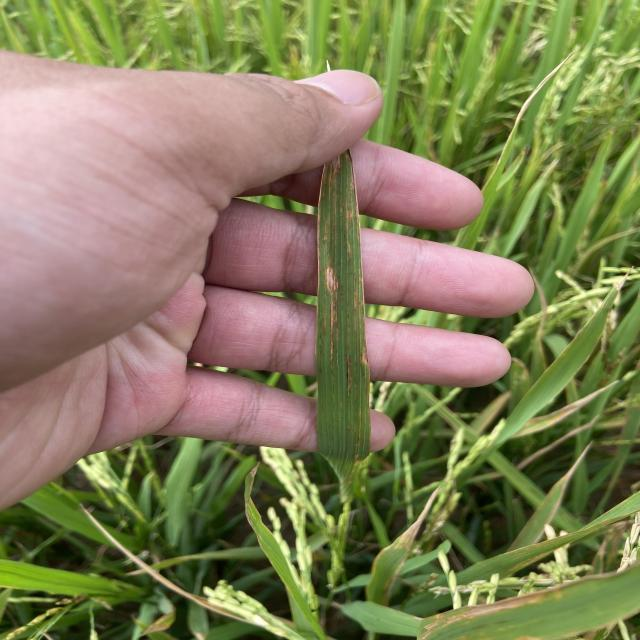Dom soc vi khuan: (323, 267, 341, 372), (318, 294, 327, 374), (346, 282, 352, 389), (359, 304, 366, 377), (346, 191, 353, 262), (353, 273, 357, 335), (334, 186, 338, 216), (333, 218, 337, 246), (340, 199, 344, 227), (323, 222, 327, 242)
